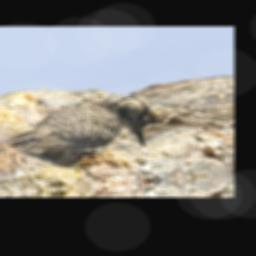Woodpecker: (0, 95, 159, 172)
